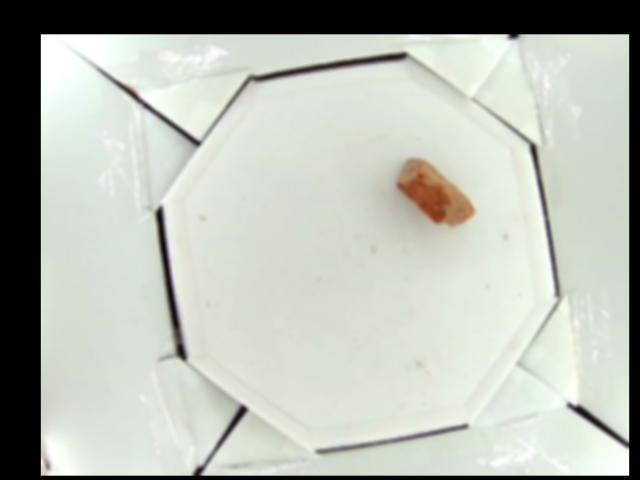Brisk: (396, 157, 476, 226)
